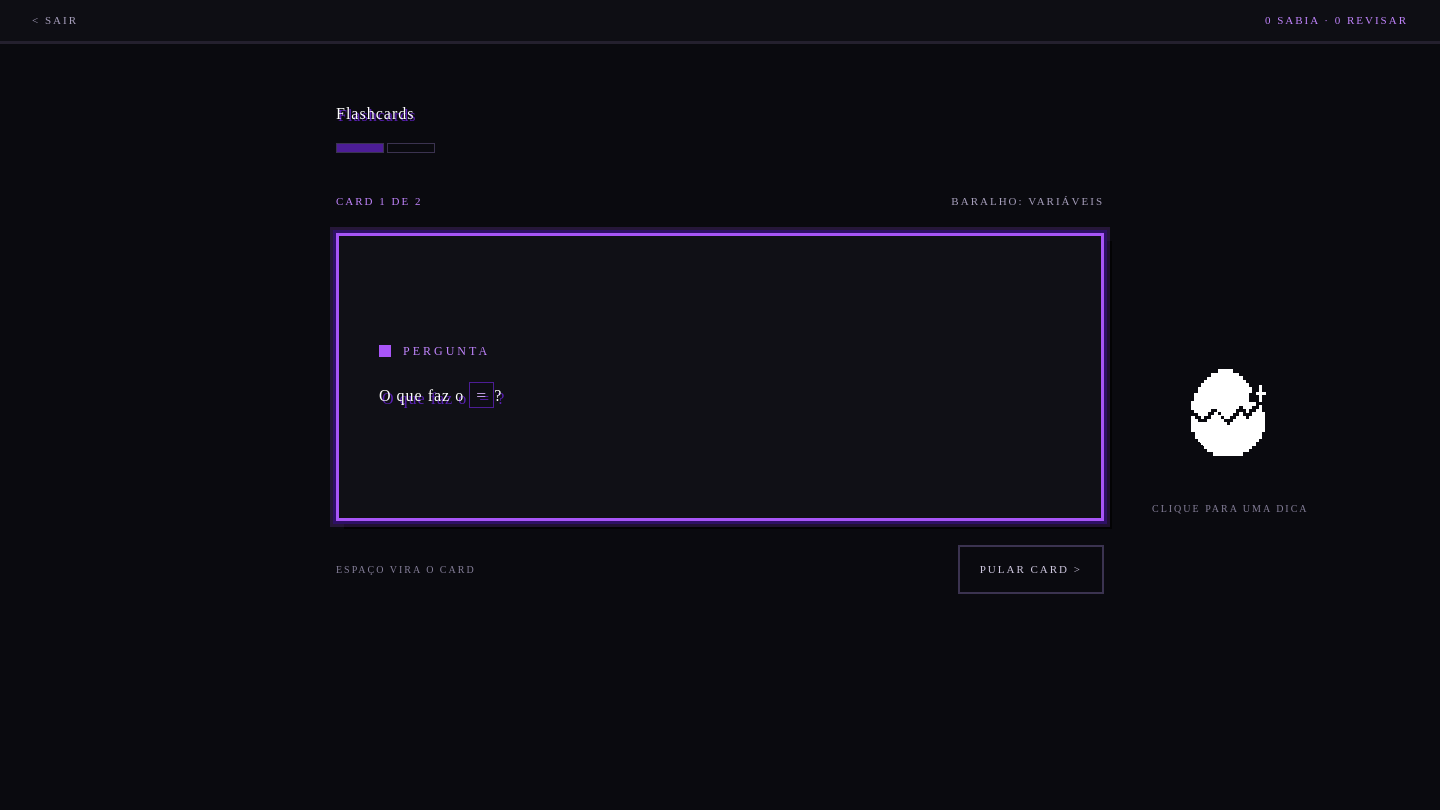
Test: SessaoFlashcards › pular manda o card para o fim e não deixa terminar sem responder
Click the button "Pular card >".
click(1031, 569)  # box [958,545,1104,594]
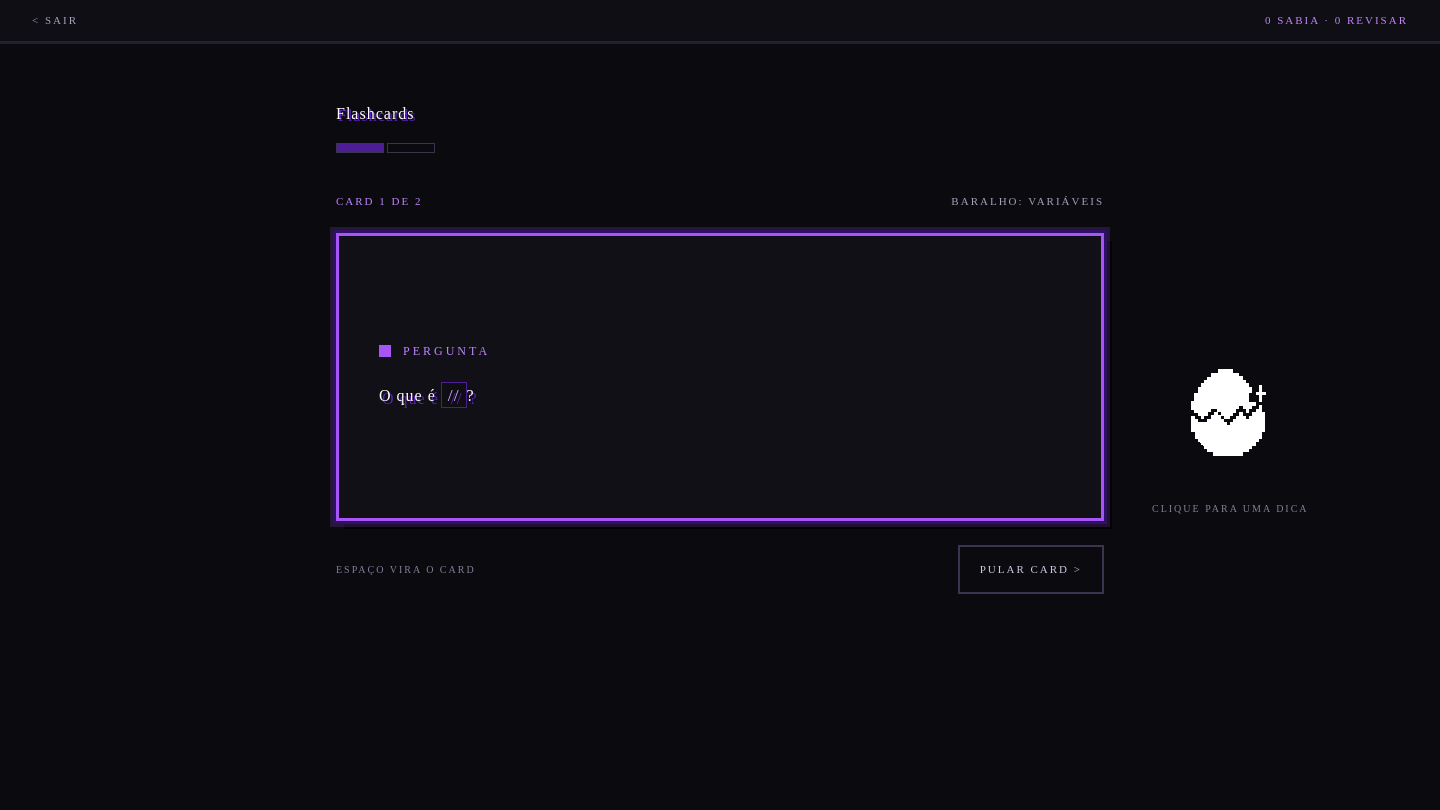
expect the text "Card 1 de 2" is shown: met, box [336,193,422,209]
expect the text "O que é" is shown: met, box [379,387,441,404]
Click the button with aria-label "Revelar a resposta".
click(720, 377)  # box [336,233,1104,521]
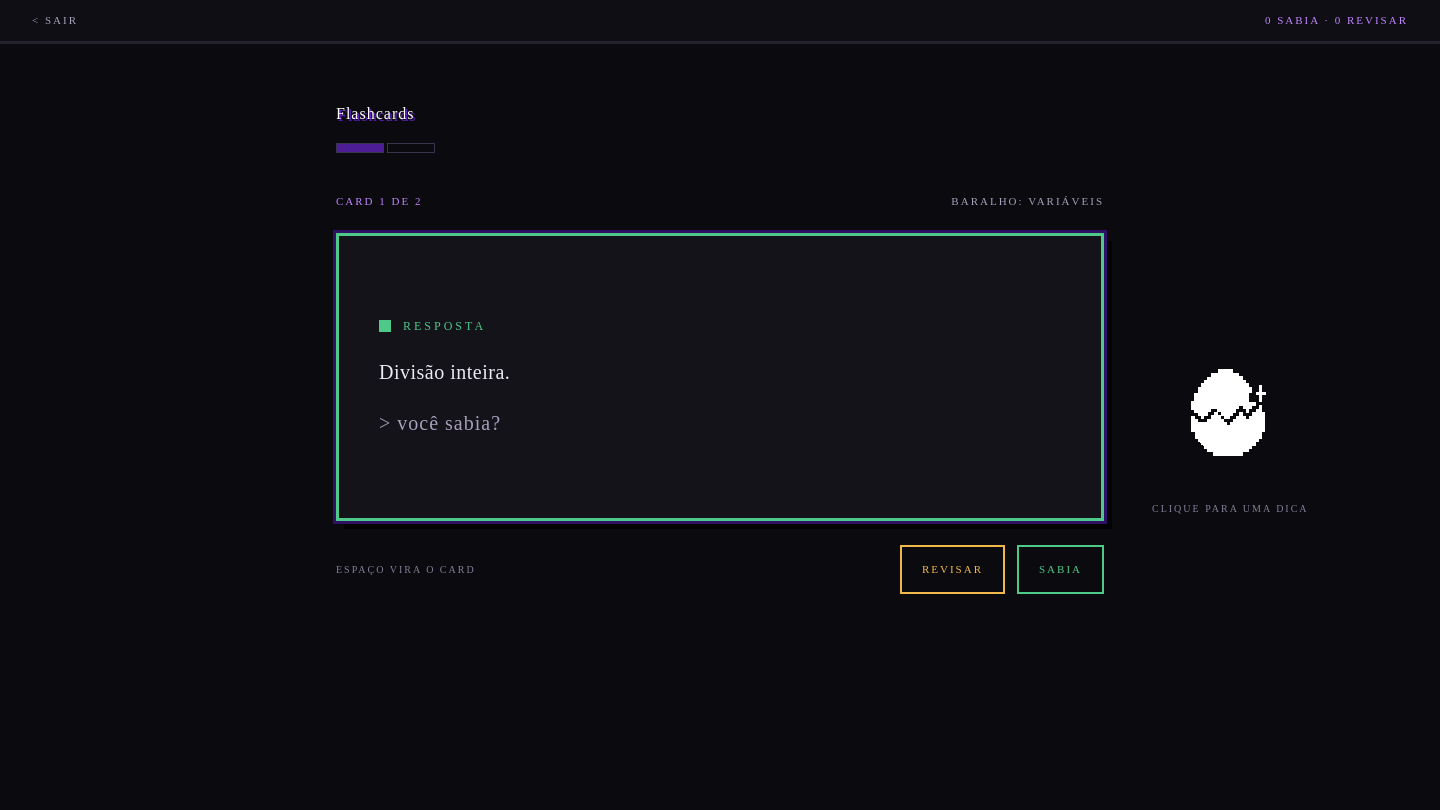
Click the button "Sabia".
click(1060, 569)  # box [1017,545,1104,594]
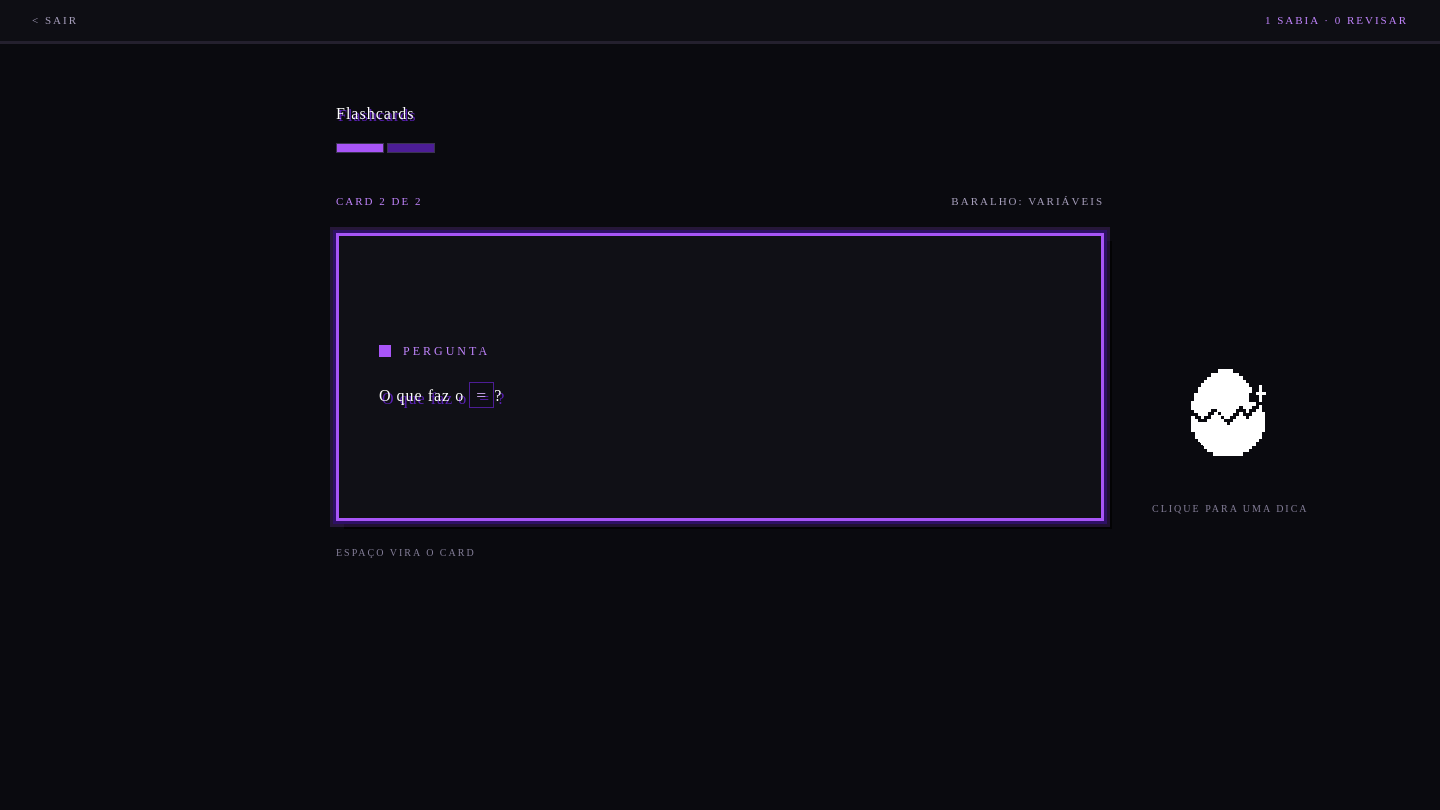
expect the button "Pular card >" is not shown: met
expect the text "Card 2 de 2" is shown: met, box [336,193,422,209]
expect the text "O que faz o" is shown: met, box [379,387,469,404]
